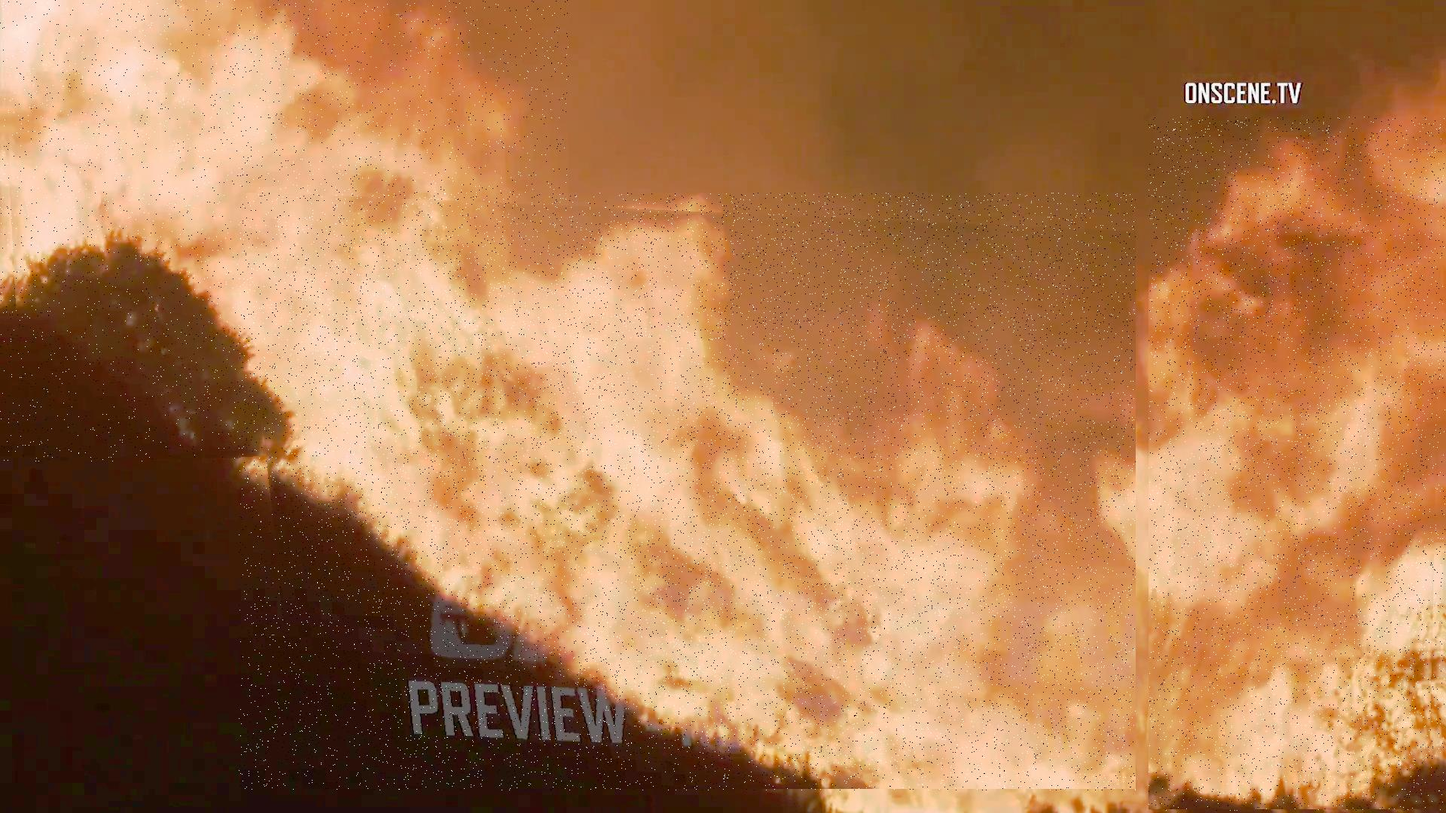fire: (239, 193, 1136, 791), (0, 0, 569, 461), (1149, 117, 1446, 811)
